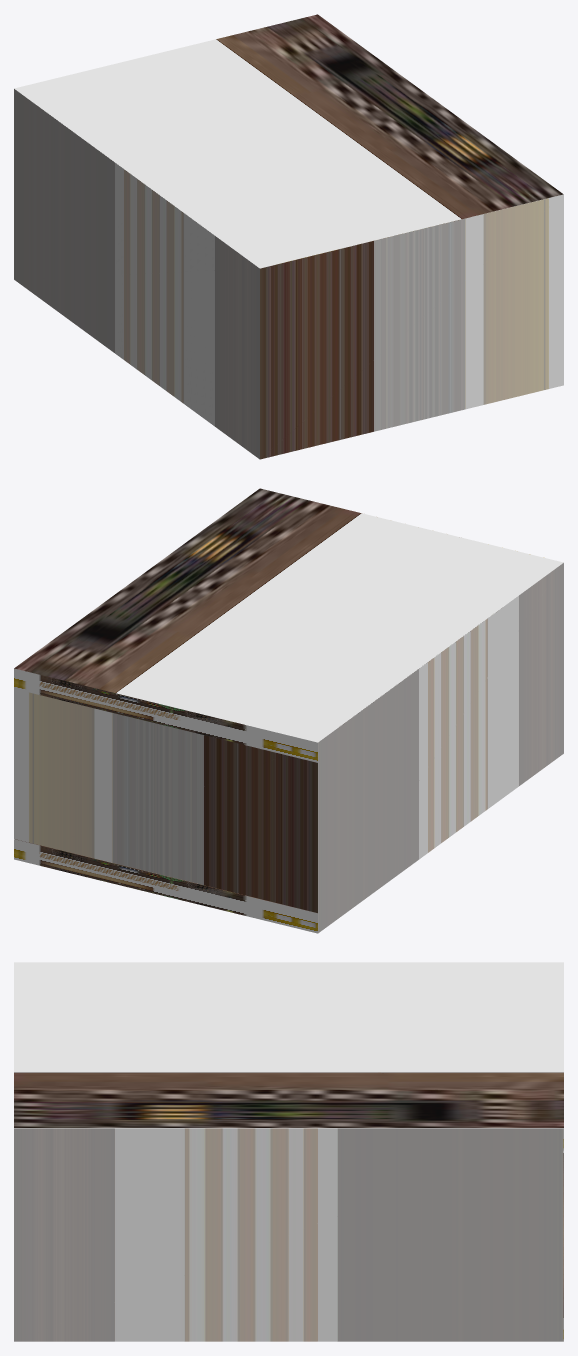
The model's file is room.FBX.
The picture shows the model from 3 angles, top to bottom: view 1: azimuth 30°, elevation 25°; view 2: azimuth 150°, elevation 25°; view 3: azimuth 270°, elevation 25°; orthographic projection. The views are drawn at different scales.
Visible parts, largest first — view 1: Rectangle002, Box009; view 2: Rectangle002, Box009, Box008; view 3: Rectangle002, Box009.
Boxes of the visible parts, box(x1,y1,x2,y2) form: Rectangle002: box(14, 15, 563, 459); Box009: box(14, 14, 563, 268); Rectangle002: box(14, 494, 563, 933); Box009: box(14, 488, 563, 762); Box008: box(14, 839, 317, 933); Rectangle002: box(14, 1128, 563, 1341); Box009: box(14, 962, 563, 1150).
Size of the model in its own units: 5000 by 3001 by 7005.
3 materials, 3 textured.
